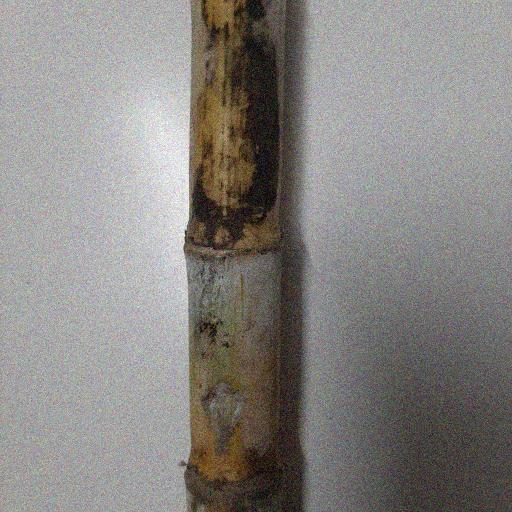Bud: (208, 222, 236, 252)
